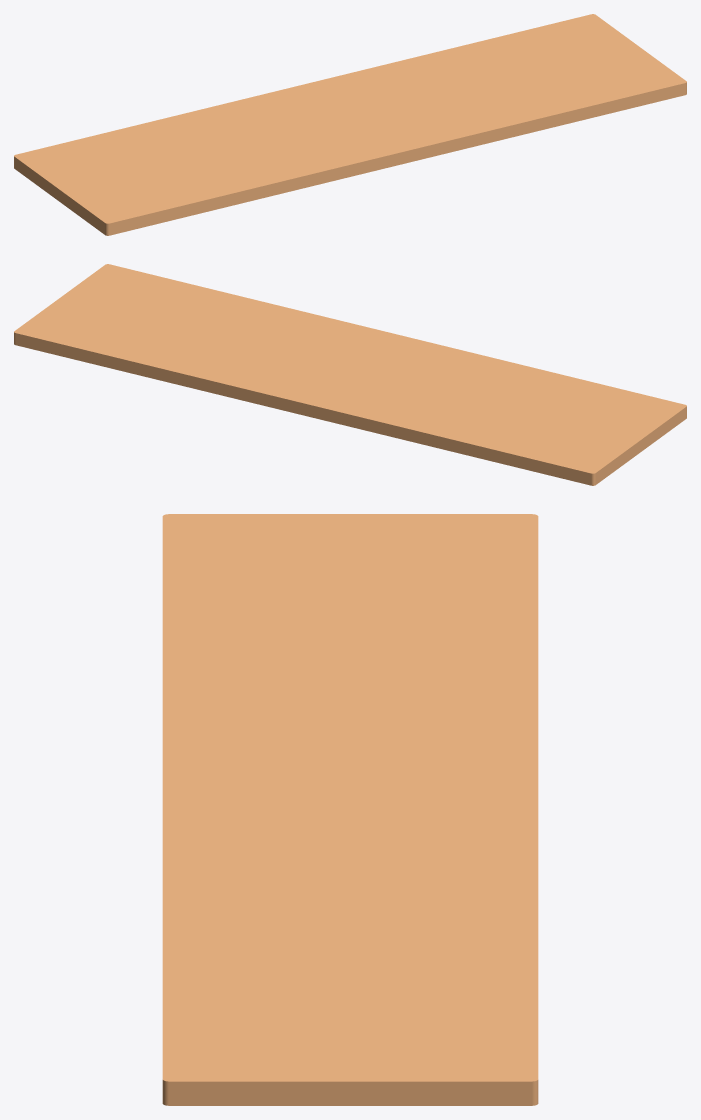
3 views of the same model, one above another, from view 1: azimuth 30°, elevation 25°; view 2: azimuth 150°, elevation 25°; view 3: azimuth 270°, elevation 25° (orthographic). The views are drawn at different scales.
Visible parts, largest first — view 1: Base; view 2: Base; view 3: Base.
Boxes of the visible parts, x1=… form: Base: x1=14, y1=14, x2=686, y2=235; Base: x1=14, y1=264, x2=686, y2=485; Base: x1=162, y1=514, x2=538, y2=1105.
Size of the model in its own units: 0.635 by 0.0127 by 0.1778.
